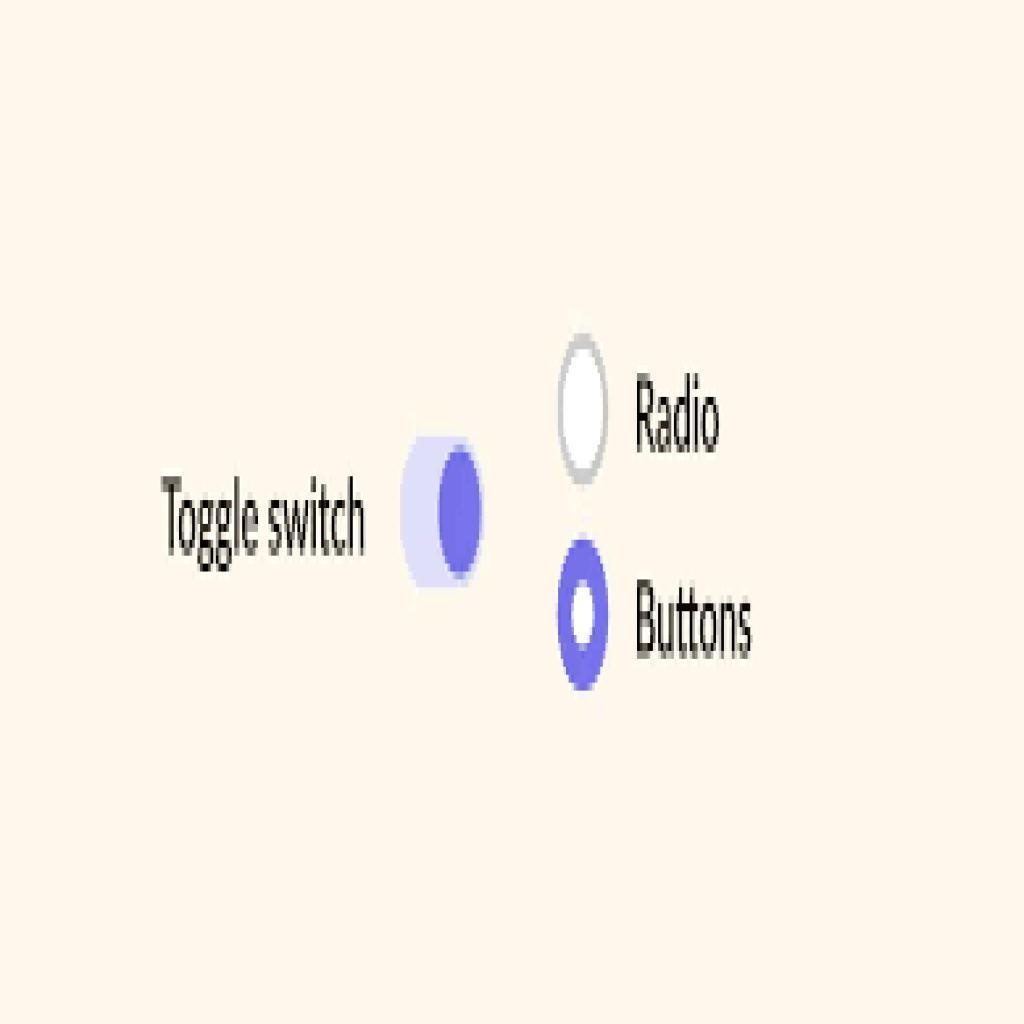label: (155, 473, 367, 565), (633, 370, 725, 458)
radio: (552, 530, 613, 699), (554, 330, 613, 486)
switch: (398, 442, 482, 584)
